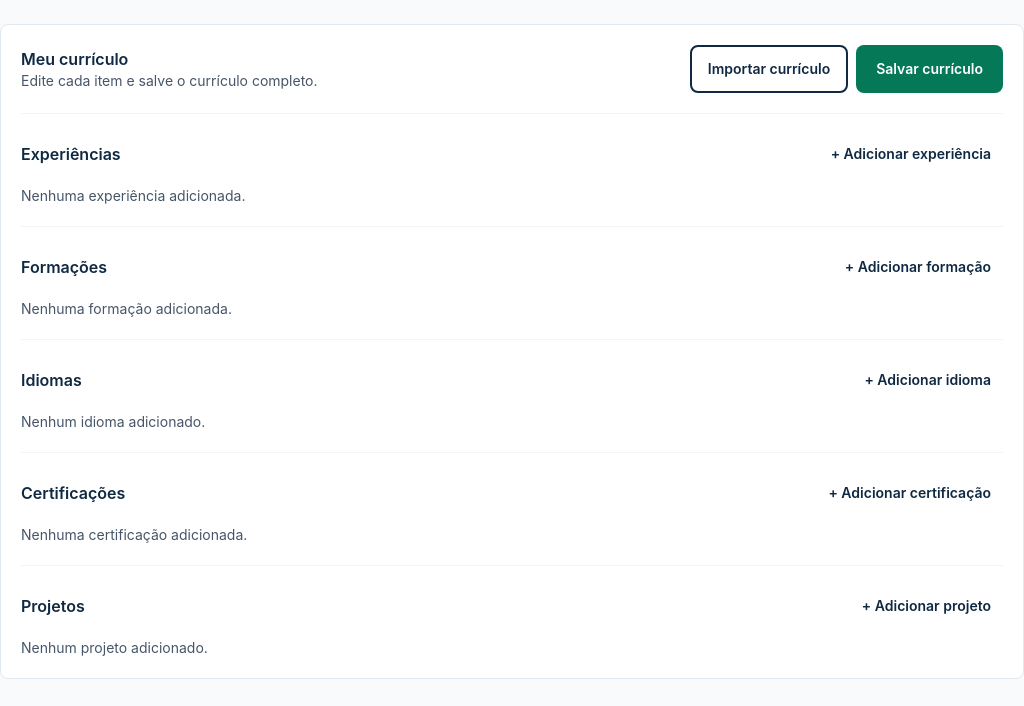
Test case: salva experiencia e envia payload no formato do CurriculoRequest
Expected: the heading "Experiências" is shown, [21,142,121,166]
Click the button "+ Adicionar experiência": {"x": 911, "y": 154} [819,130,1003,178]
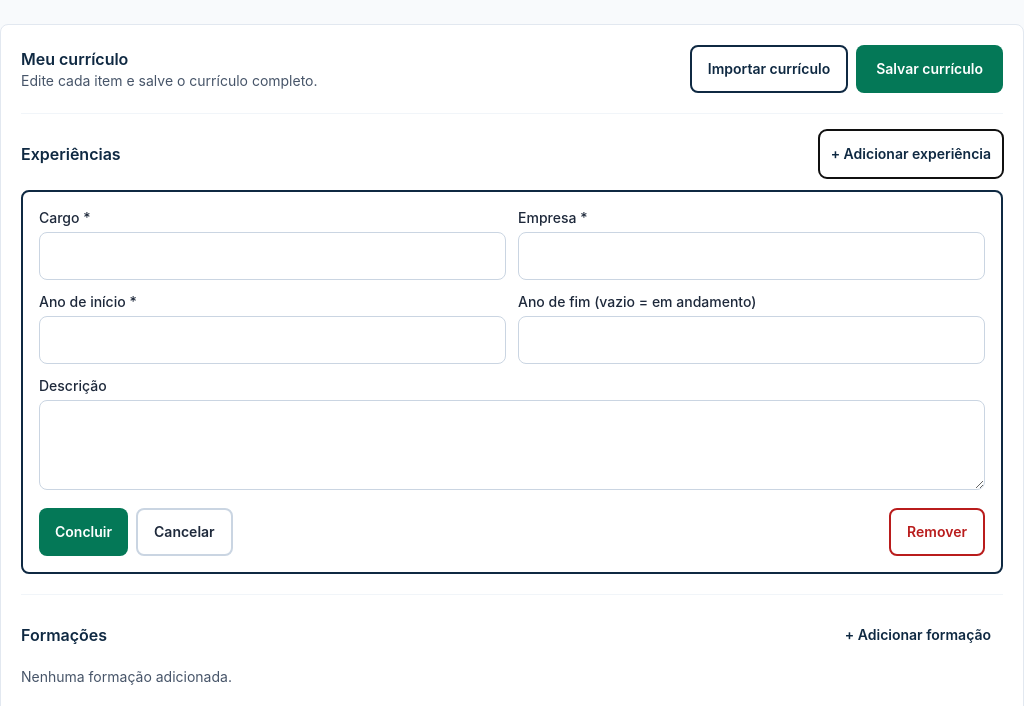
In the field labelled "Cargo *": {"x": 272, "y": 256} [39,232,506,280], type "Analista"
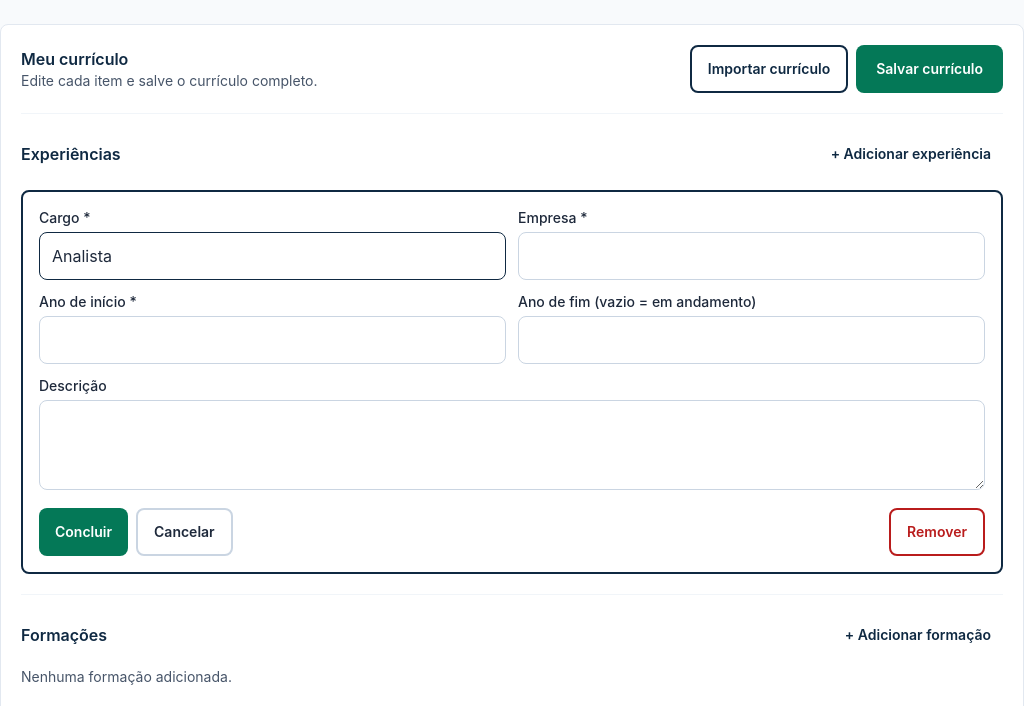
In the field labelled "Empresa *": {"x": 752, "y": 256} [518,232,985,280], type "Industria Alfa"
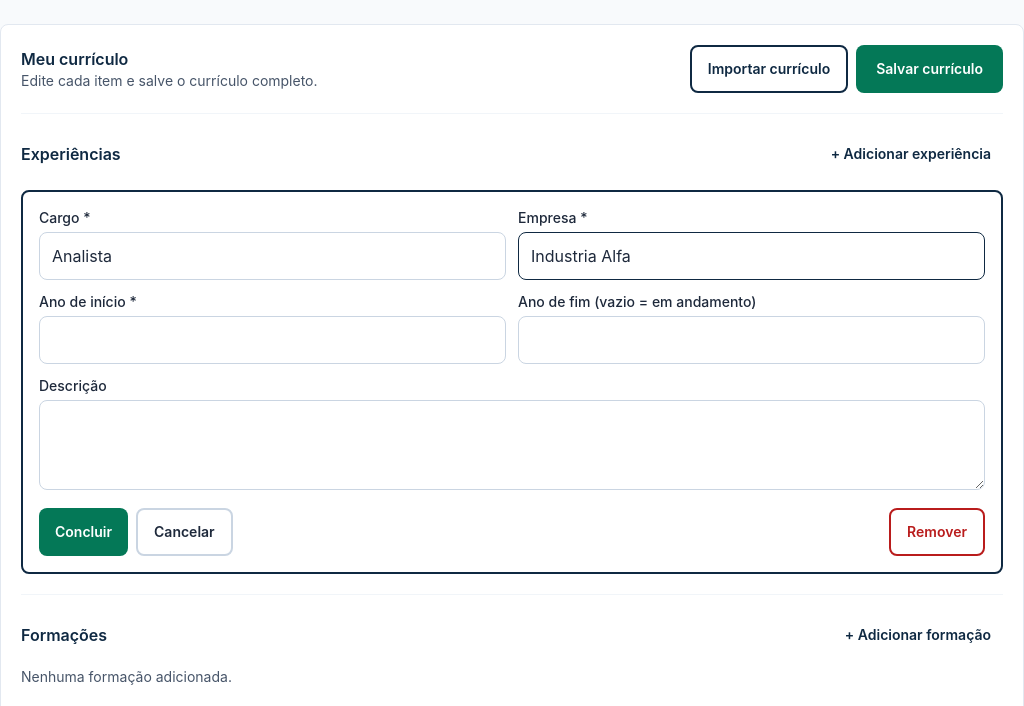
In the number field labelled "Ano de início *": {"x": 272, "y": 340} [39,316,506,364], type "2015"
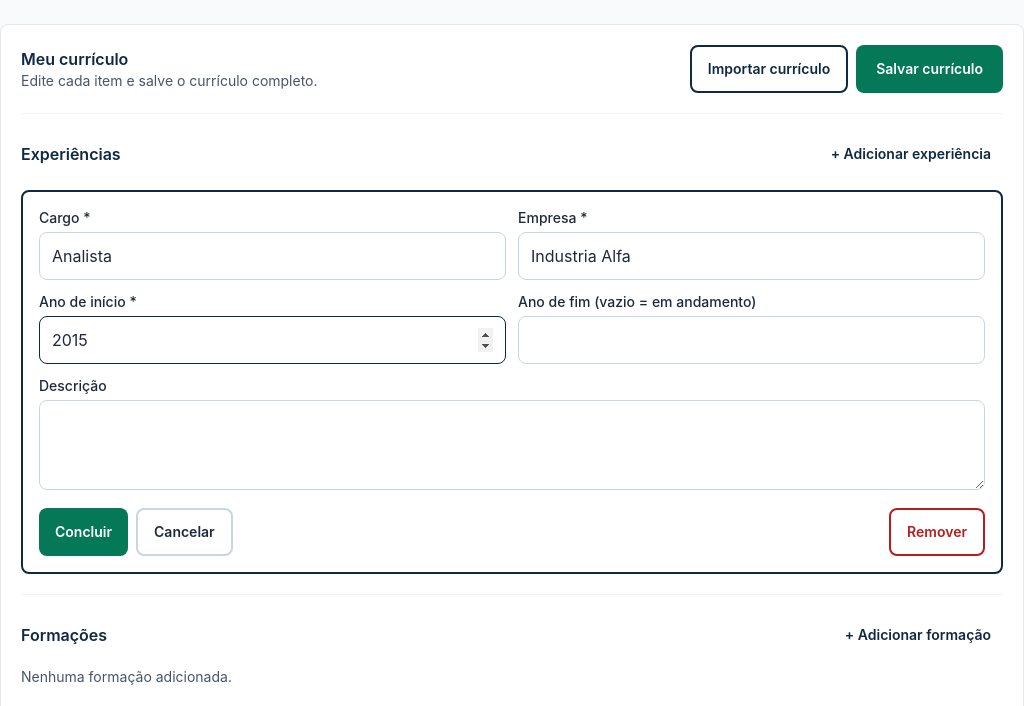
Click the button "Concluir": {"x": 84, "y": 532} [39,508,128,556]
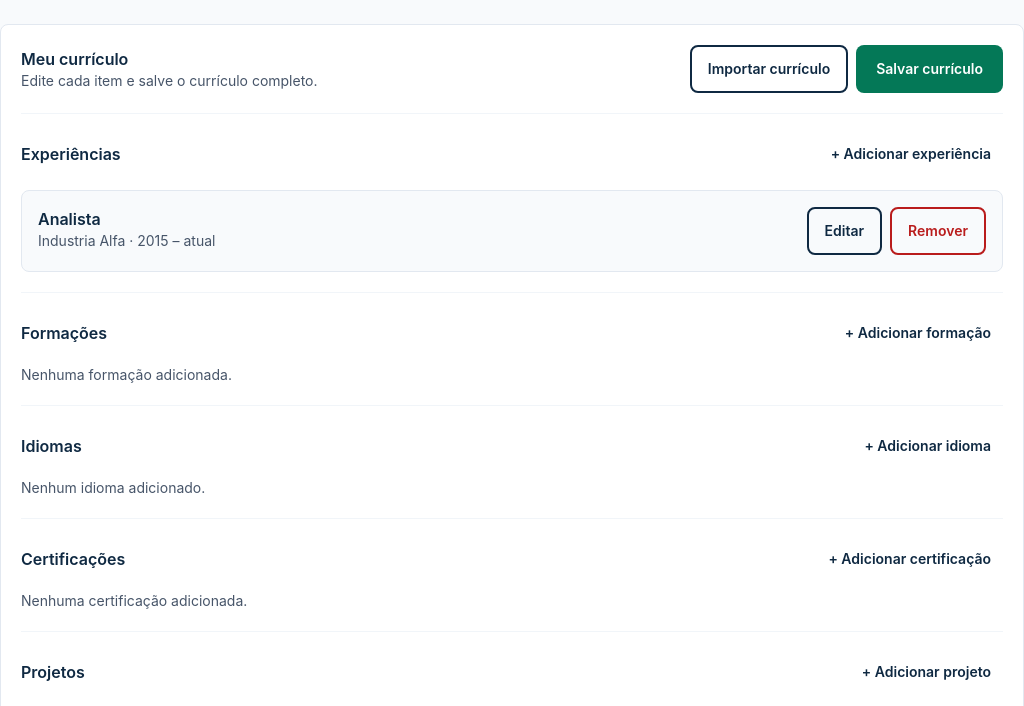
Click the button "Salvar currículo": {"x": 930, "y": 69} [856,45,1003,93]
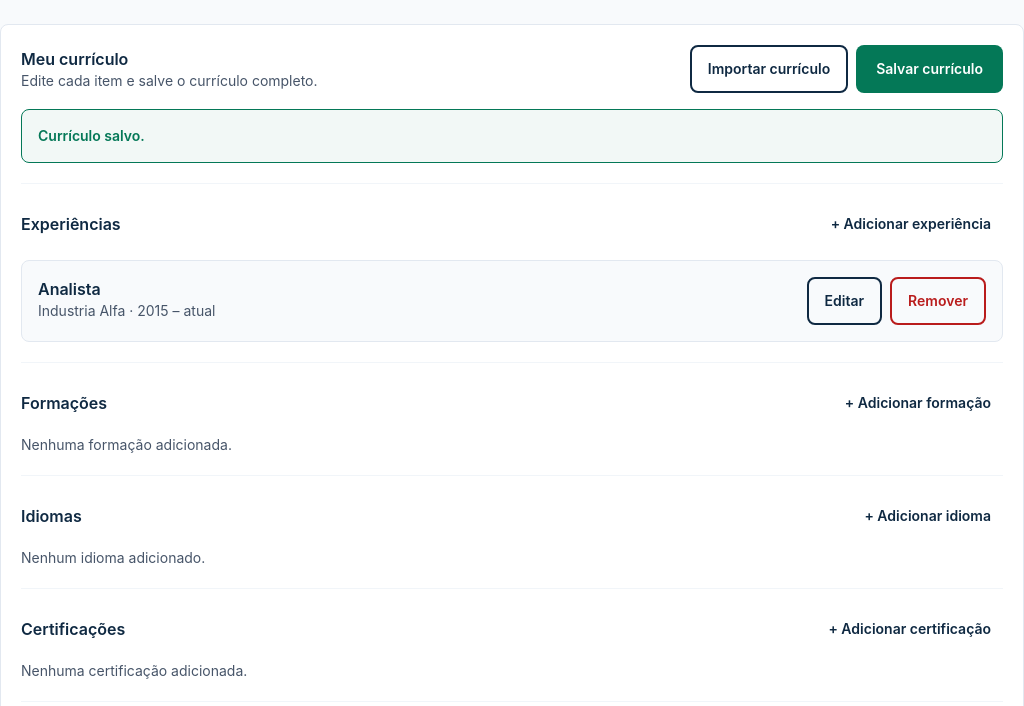
Result: the text "Currículo salvo." is shown at [38,127,145,144]
